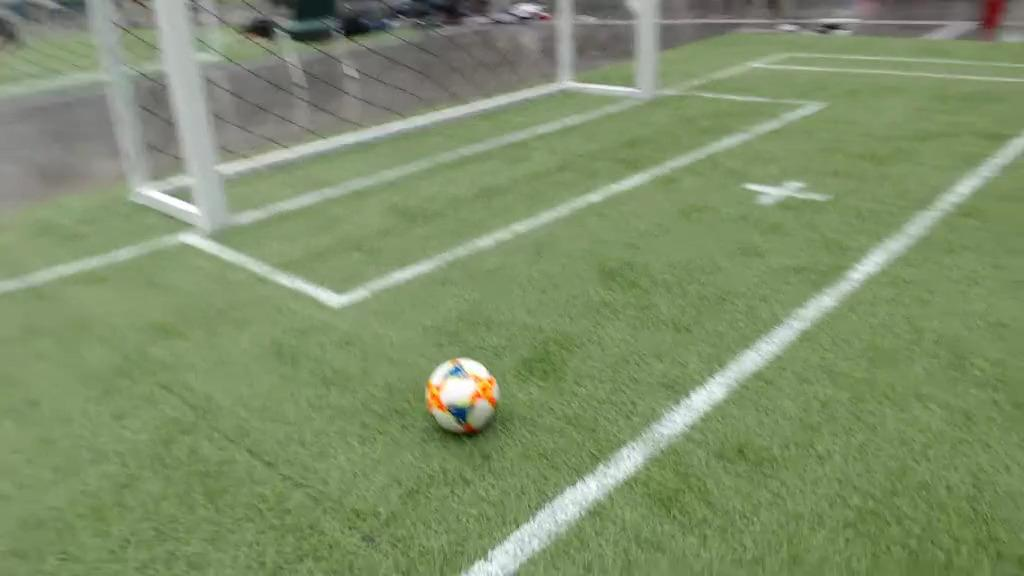ball: (427, 358, 499, 433)
